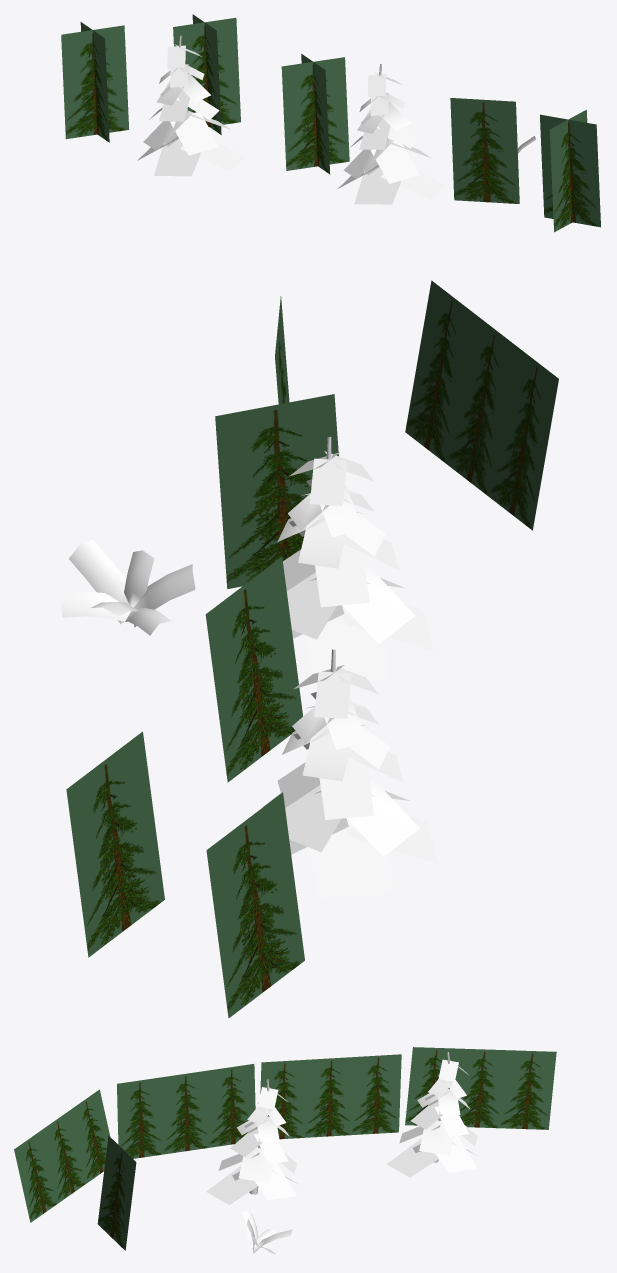
Rendered from frontTrees2.glb.
The picture shows the model from 3 angles, top to bottom: view 1: azimuth 30°, elevation 25°; view 2: azimuth 150°, elevation 25°; view 3: azimuth 270°, elevation 25°; orthographic projection. The views are drawn at different scales.
Visible parts, largest first — view 1: tree_1Low.png__, tree_1.png__; view 2: tree_1Low.png__, tree_1.png__, vegetation_1.png__; view 3: tree_1Low.png__, tree_1.png__, vegetation_1.png__.
Boxes of the visible parts, bbox=[...] form: tree_1Low.png__: bbox=[61, 14, 600, 232]; tree_1.png__: bbox=[137, 44, 445, 204]; tree_1Low.png__: bbox=[66, 280, 558, 1017]; tree_1.png__: bbox=[262, 451, 438, 899]; vegetation_1.png__: bbox=[59, 540, 195, 635]; tree_1Low.png__: bbox=[14, 1047, 556, 1250]; tree_1.png__: bbox=[206, 1059, 477, 1204]; vegetation_1.png__: bbox=[242, 1210, 292, 1254].
Bounding box in the file's own units: 37.6 × 16.48 × 58.72.
5 materials, 1 textured.
